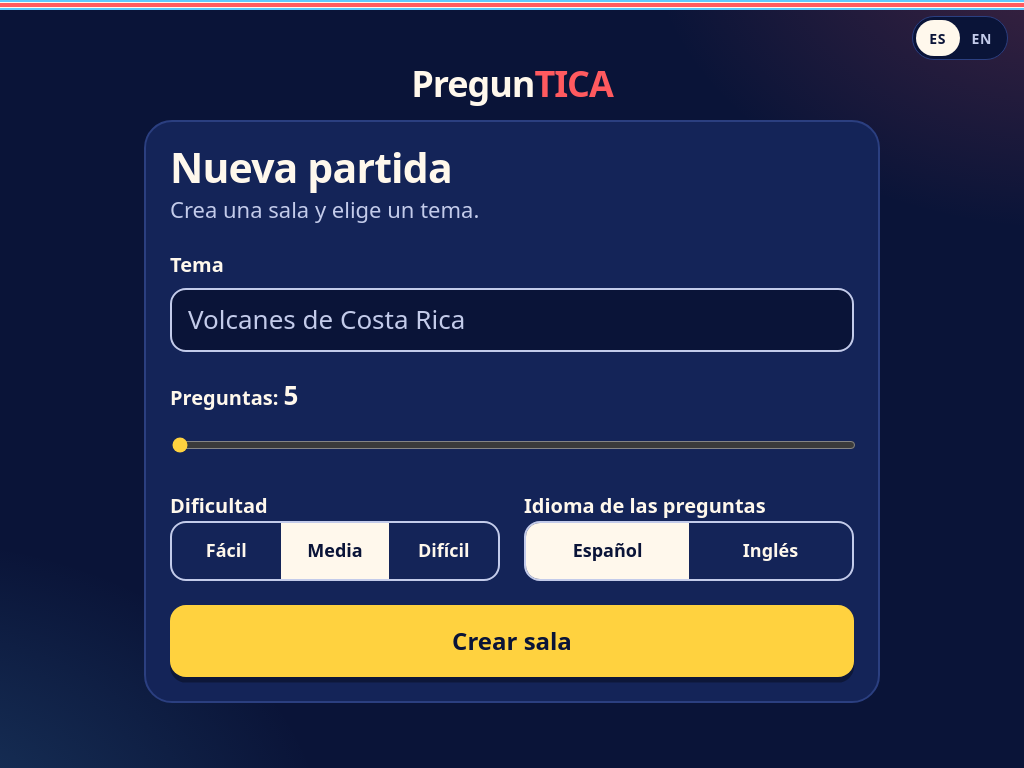
it: form › a topic too short is caught here, without spending an attempt
Type "a" into the field labelled "Tema" at (512, 320), box [170,288,854,352]
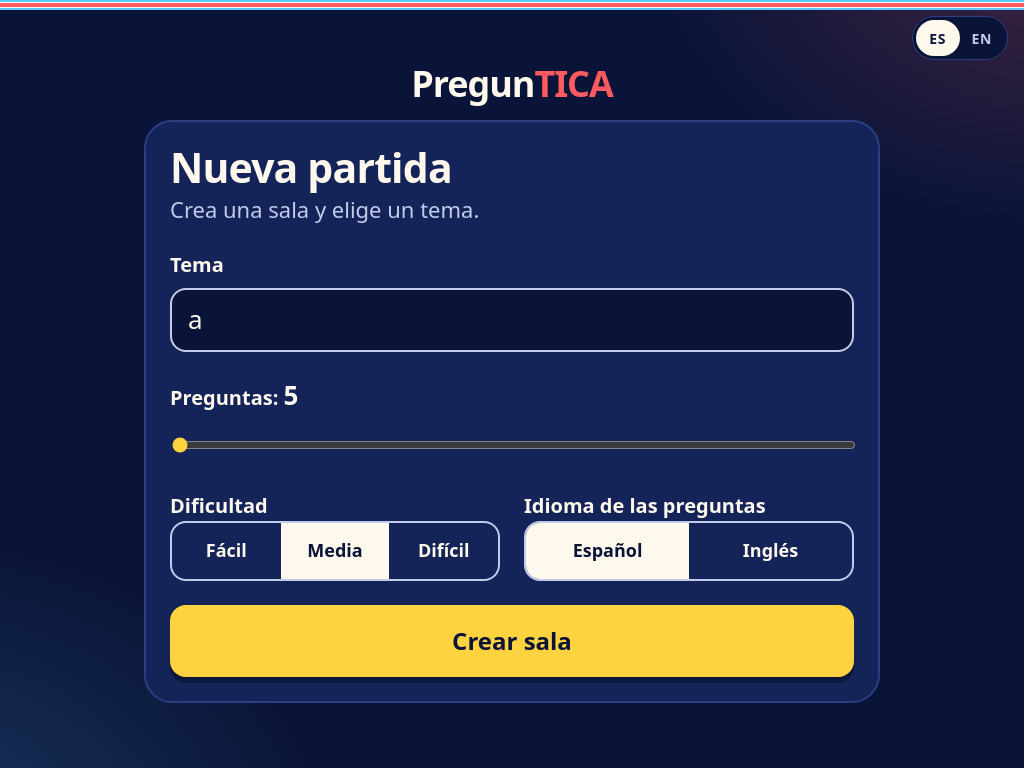
Click the button "Crear sala" at (512, 640), box [170,604,854,676]
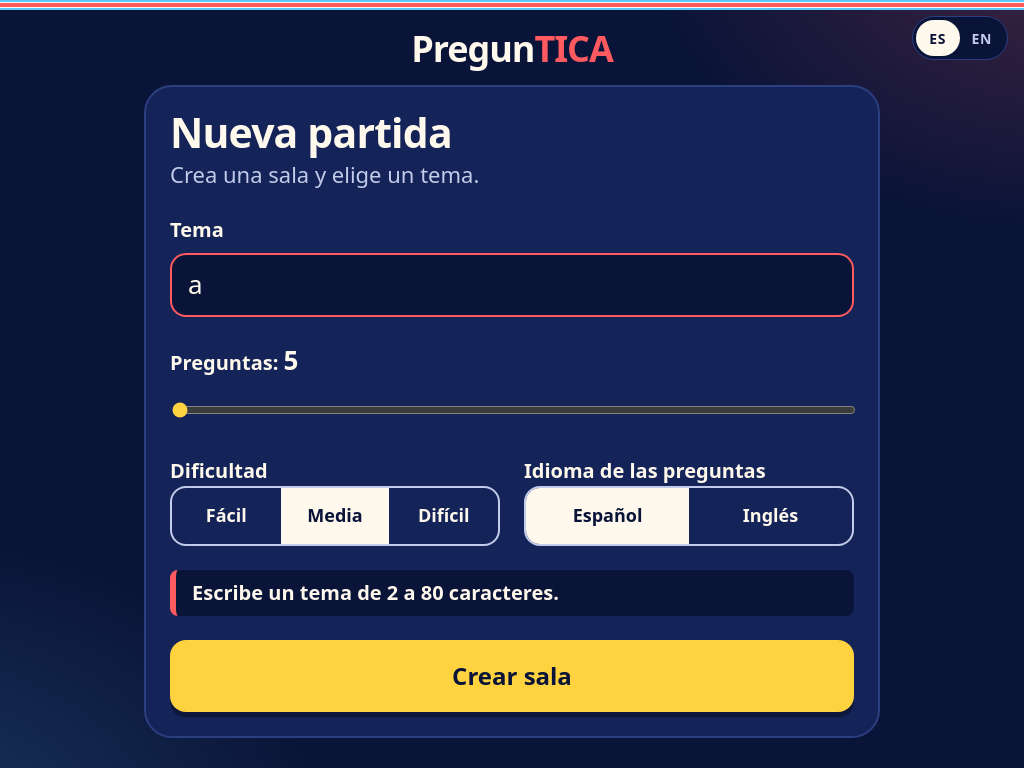
Expected: the message shows "Escribe un tema", [192,578,559,606]
